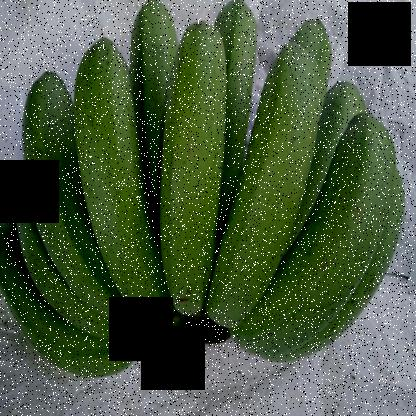unripe: (190, 35, 328, 354), (258, 118, 397, 357), (144, 11, 232, 366), (63, 26, 160, 335)
